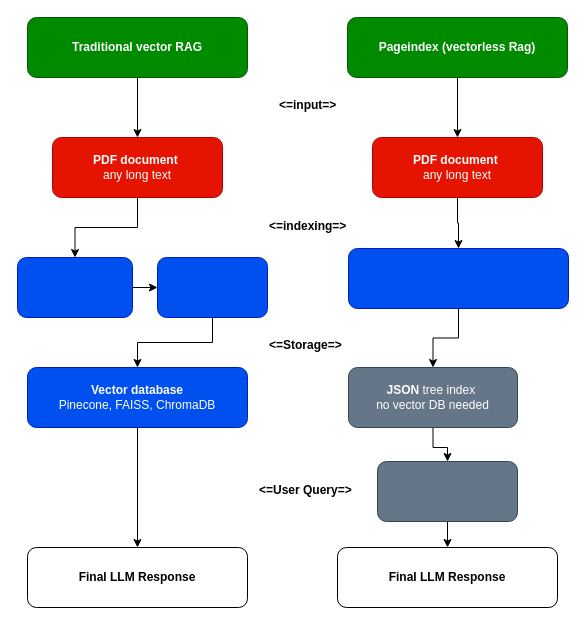
The diagram is 586 pixels wide and 625 high, and some of its shapes have lost their labels. Each missing label, with the box of its shape:
Embedding Convert to vectors: (156, 256, 268, 318)
LLM tree builder No vector DB needed: (348, 248, 568, 308)
Topic-Based Chunking: (16, 256, 132, 318)
Tree Traversal (Recursive Search): (376, 460, 518, 522)
